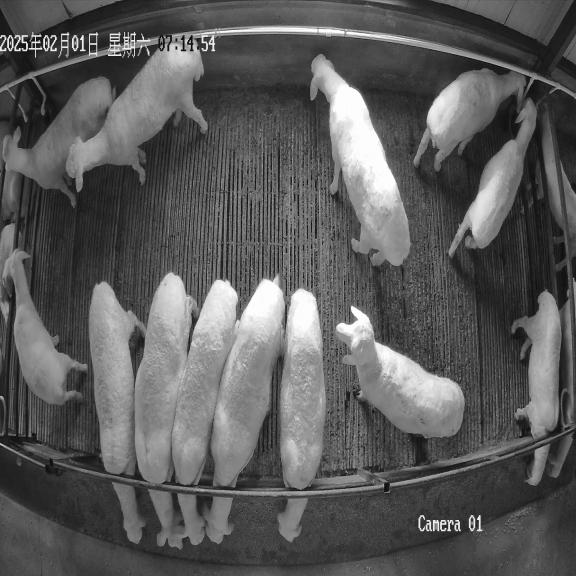eating: (204, 275, 285, 543), (172, 280, 238, 545), (135, 273, 198, 548), (89, 282, 146, 544), (277, 289, 325, 542), (512, 290, 561, 485)
stand: (310, 54, 410, 265), (66, 44, 207, 191), (335, 306, 464, 438), (3, 76, 114, 206), (448, 98, 537, 256), (5, 249, 87, 405), (414, 68, 526, 170)
